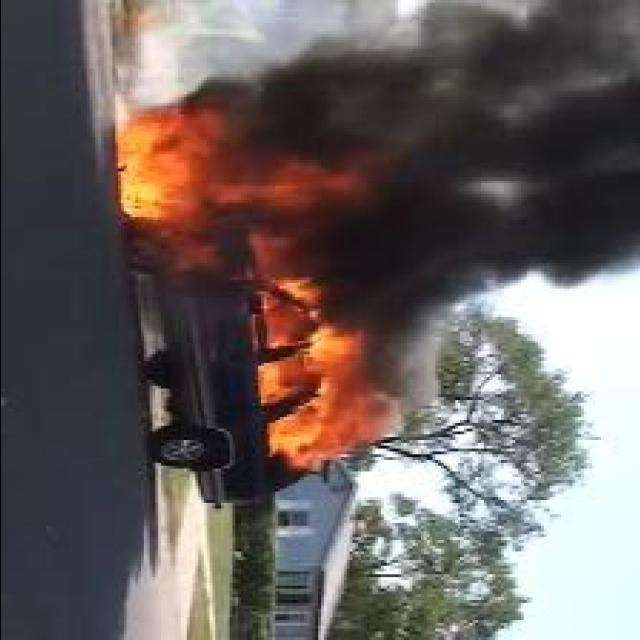Fire: (117, 94, 366, 280), (254, 281, 400, 473)
